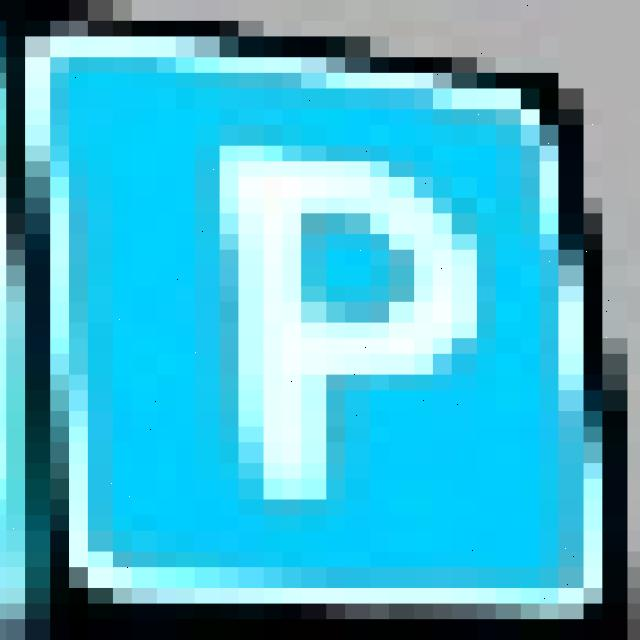parking: (175, 115, 502, 525)
